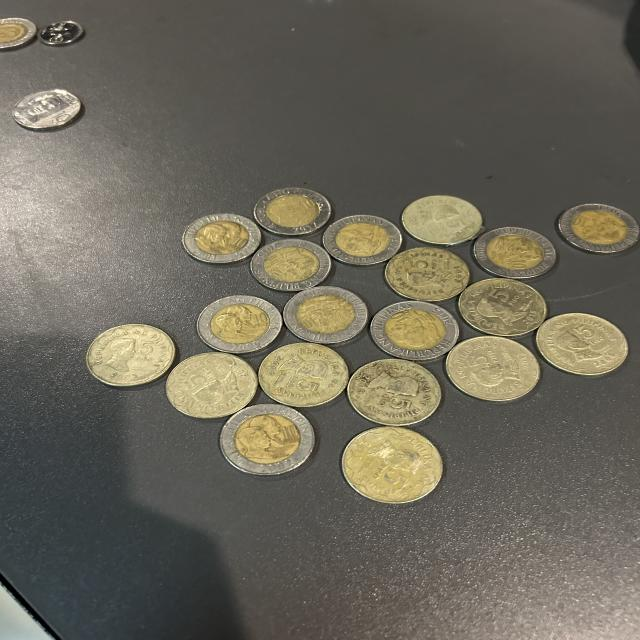10_Old_Front: (380, 316, 456, 358), (239, 419, 302, 469), (574, 204, 627, 252), (300, 295, 364, 331), (214, 308, 265, 347), (190, 224, 250, 253), (266, 193, 319, 224), (494, 233, 538, 269), (264, 249, 313, 277), (338, 221, 387, 249)
5_Old_Front: (343, 441, 434, 492), (460, 339, 528, 402), (388, 247, 463, 298), (358, 365, 424, 422), (93, 334, 161, 388), (468, 280, 535, 332), (544, 318, 606, 372), (178, 356, 242, 408), (272, 352, 338, 401), (414, 198, 472, 246)
